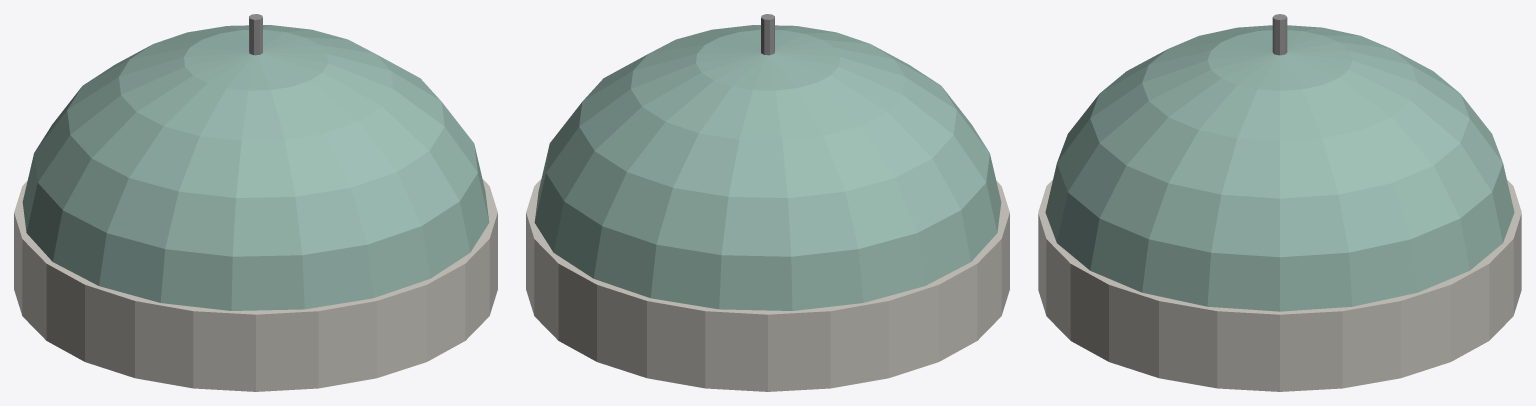
The model's file is dm_roofdome.glb.
3 views of the same model, side by side, from view 1: azimuth 30°, elevation 25°; view 2: azimuth 150°, elevation 25°; view 3: azimuth 270°, elevation 25° (orthographic).
Parts seen in each view (by area): view 1: dm_roofdome; view 2: dm_roofdome; view 3: dm_roofdome.
Boxes of the visible parts, x1=… form: dm_roofdome: x1=14, y1=14, x2=497, y2=391; dm_roofdome: x1=526, y1=14, x2=1009, y2=391; dm_roofdome: x1=1038, y1=14, x2=1521, y2=391.
Size of the model in its own units: 3.97 by 2.47 by 3.97.
